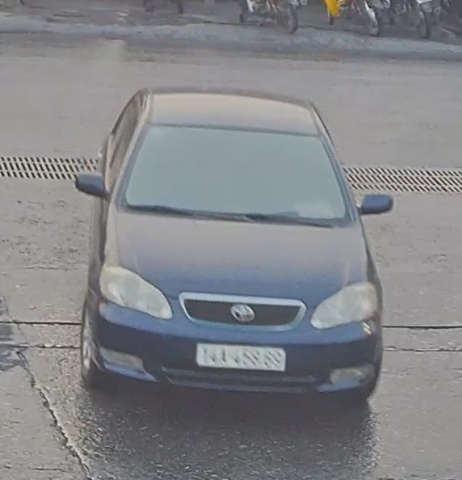vehicle plate: (193, 337, 296, 373)
